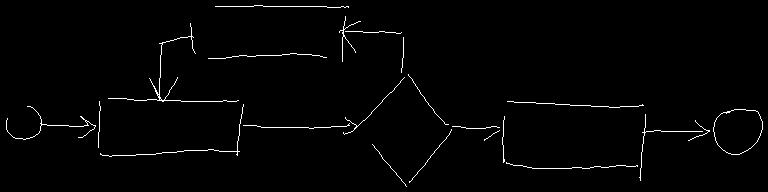arrow: (339, 21, 403, 72), (149, 36, 193, 101), (243, 117, 356, 134), (642, 120, 709, 140), (40, 116, 95, 137), (452, 126, 499, 140)
connection: (713, 109, 762, 154), (6, 106, 41, 139)
decision: (354, 74, 451, 186)
process: (502, 101, 645, 180), (190, 5, 348, 61), (98, 98, 243, 156)
